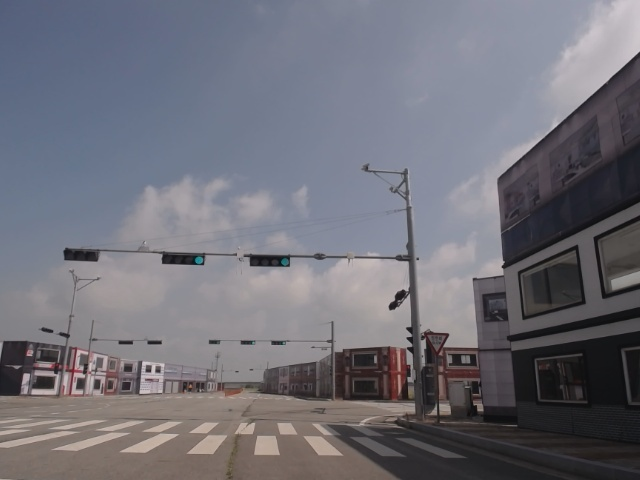straight_green_4: (249, 255, 291, 268), (162, 254, 205, 264)
